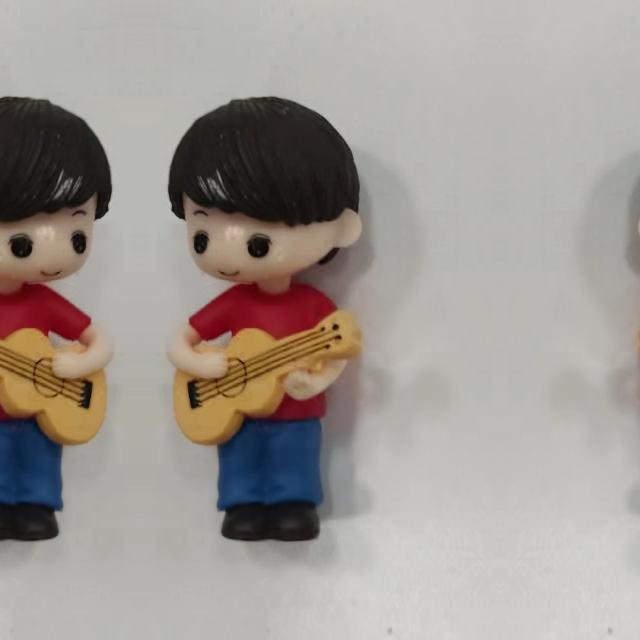man cloth: (192, 279, 348, 427), (0, 279, 88, 427)
man head: (163, 86, 365, 294), (0, 86, 117, 293), (635, 86, 640, 293)
trousers: (205, 418, 341, 562), (0, 418, 75, 561)
